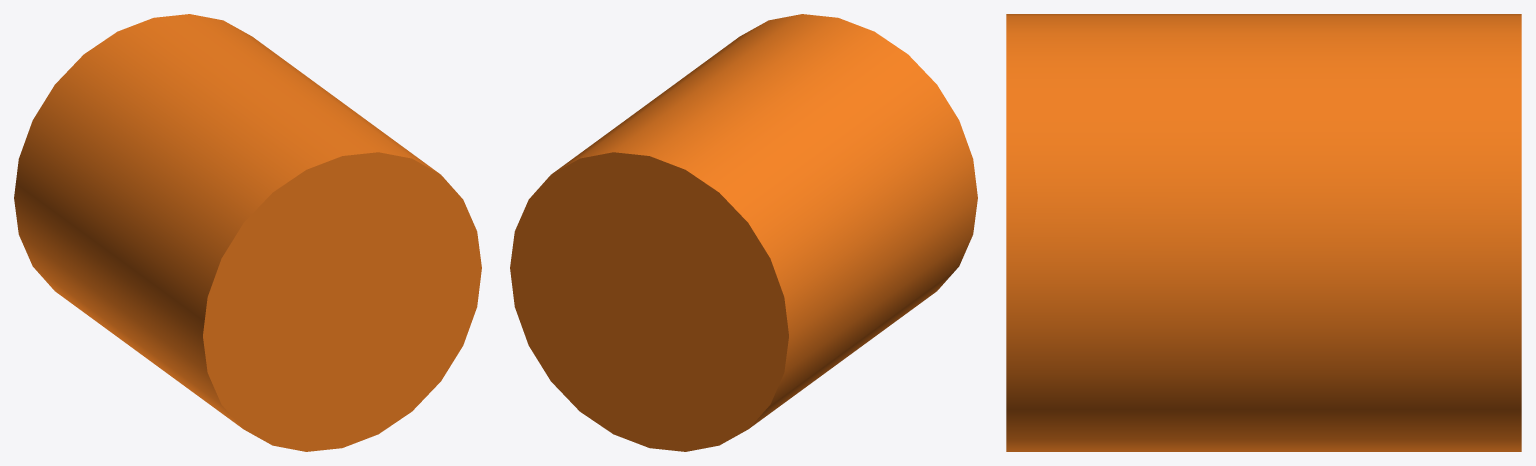
3 renders of one model, left to right at view 1: azimuth 30°, elevation 25°; view 2: azimuth 150°, elevation 25°; view 3: azimuth 270°, elevation 25°, orthographic. The views are drawn at different scales.
Visible parts, largest first — view 1: gripper_frame; view 2: gripper_frame; view 3: gripper_frame.
Part boxes in pixels (x1,y1,x2,y2): gripper_frame: (14, 14, 481, 451); gripper_frame: (510, 14, 977, 451); gripper_frame: (1006, 14, 1521, 451).
Bounding box in the file's own units: 0.0102 × 0.0102 × 0.012.
